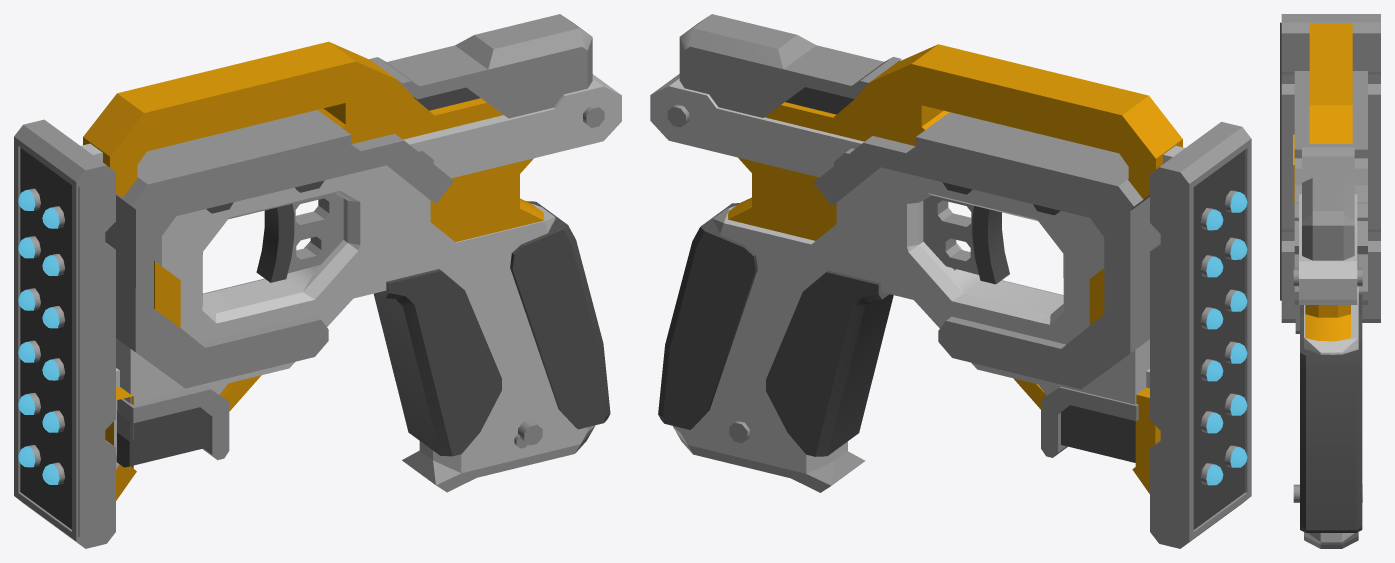
The model's file is SM_STUN01.fbx.
3 renders of one model, left to right at view 1: azimuth 30°, elevation 25°; view 2: azimuth 150°, elevation 25°; view 3: azimuth 270°, elevation 25°, orthographic. The views are drawn at different scales.
Parts seen in each view (by area): view 1: SM_STUN01, SM_STUN01_Trigger; view 2: SM_STUN01, SM_STUN01_Trigger; view 3: SM_STUN01.
Part boxes in pixels (<box>): SM_STUN01: <box>14,14,621,548</box>; SM_STUN01_Trigger: <box>256,193,343,282</box>; SM_STUN01: <box>650,14,1251,548</box>; SM_STUN01_Trigger: <box>923,195,1009,284</box>; SM_STUN01: <box>1280,14,1380,548</box>.
Size of the model in its own units: 20.14 by 15.2 by 3.88.
